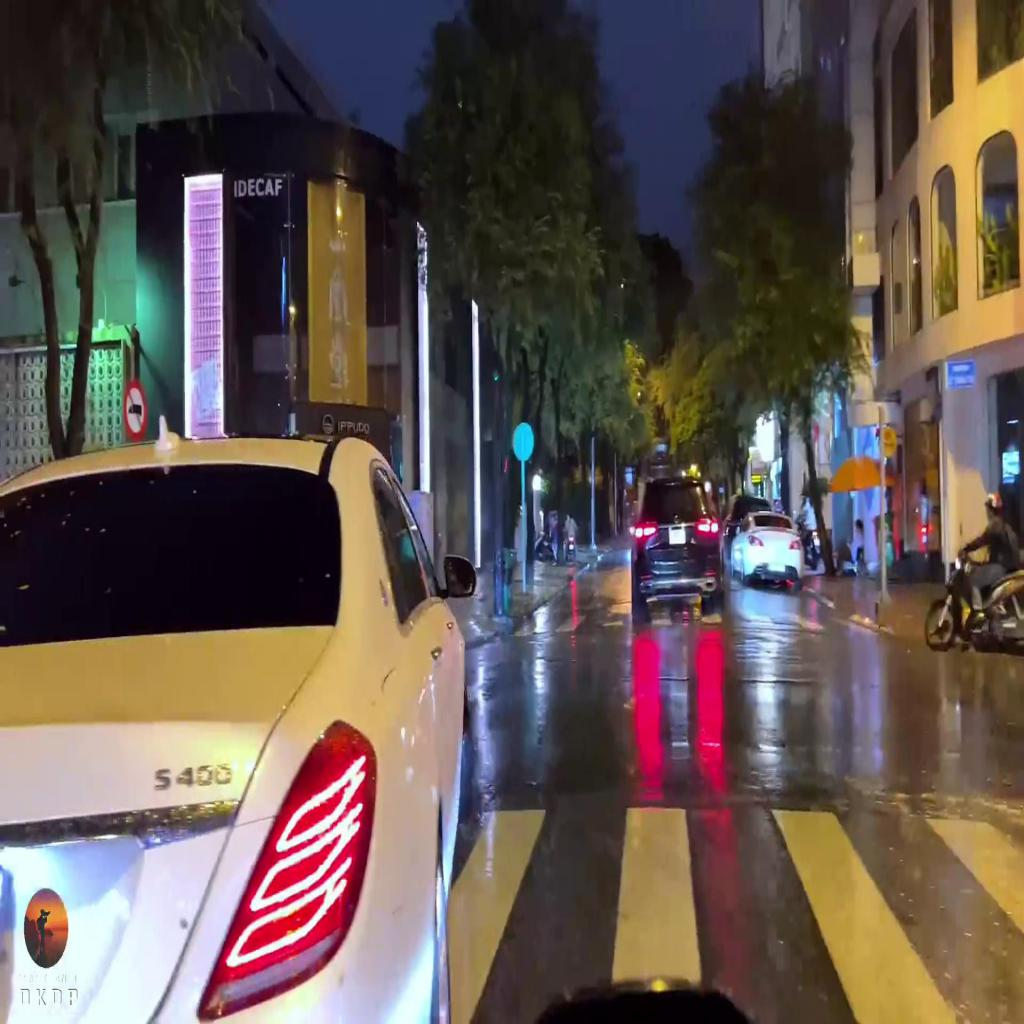cam_o_to_tai: (122, 380, 148, 444)
